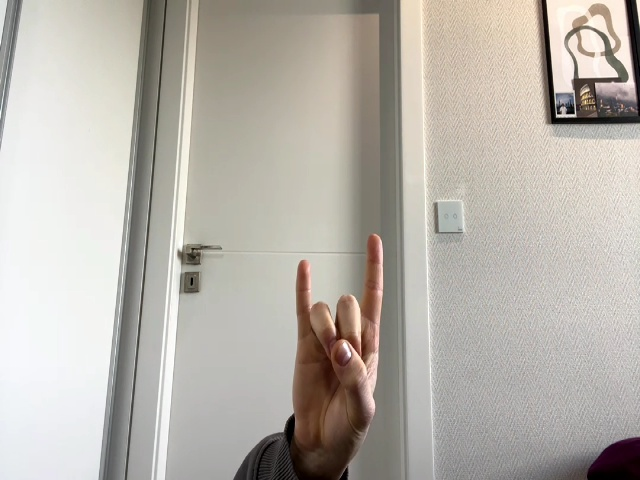Y: (291, 233, 383, 441)
